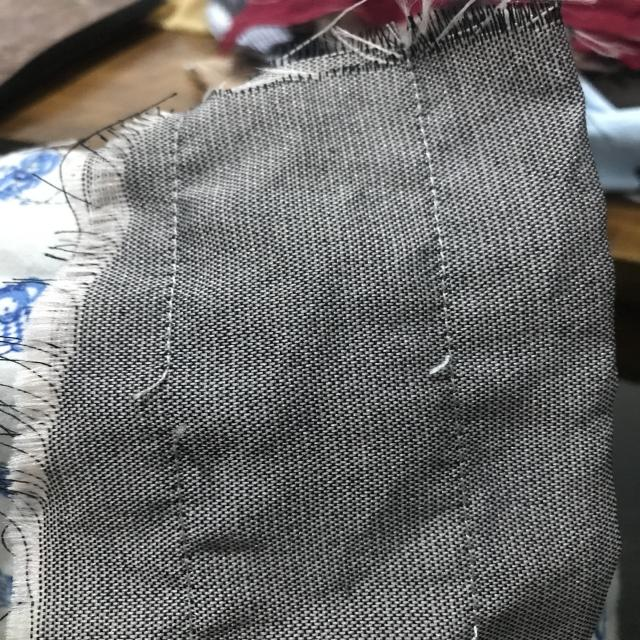broken: (112, 354, 225, 451)
